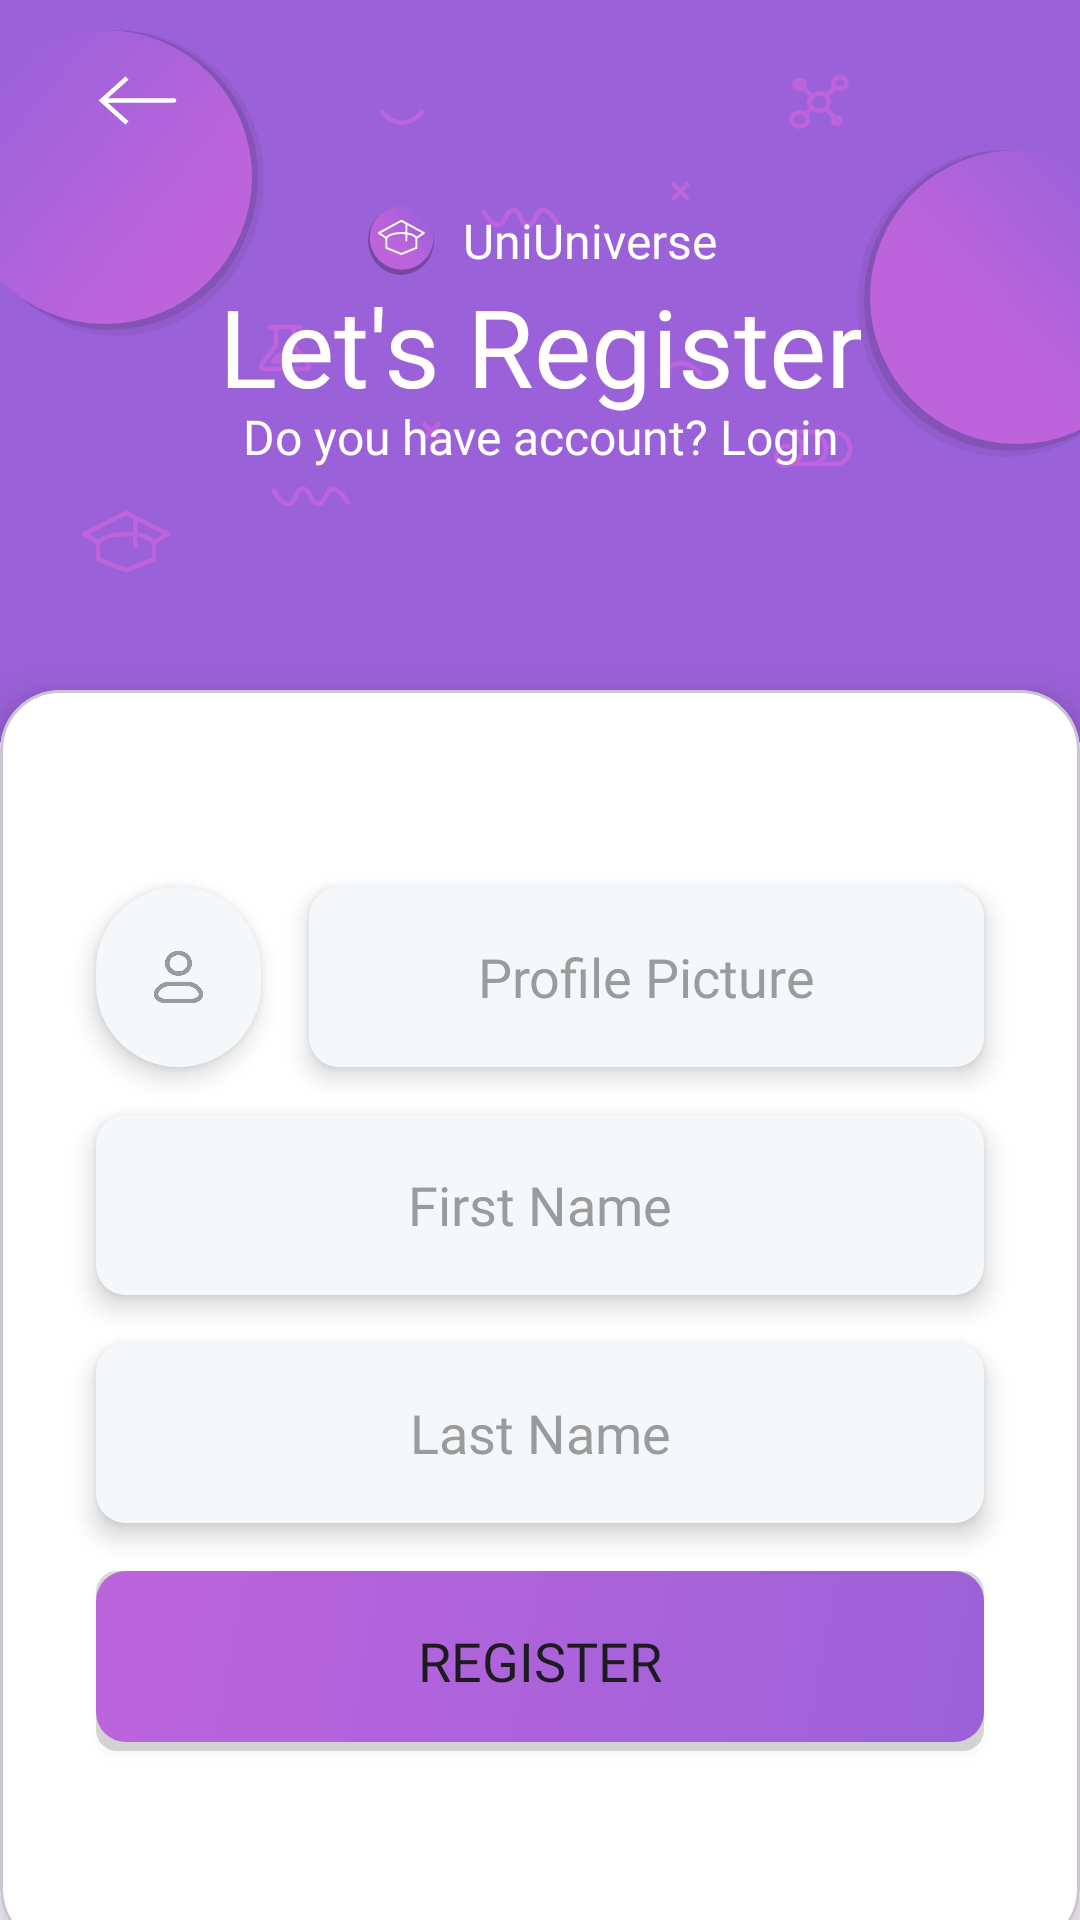

Icons on this 1080px×1920px Android screen, each with its box as region(x1, y1, x2, y2):
back: region(99, 76, 177, 125)
